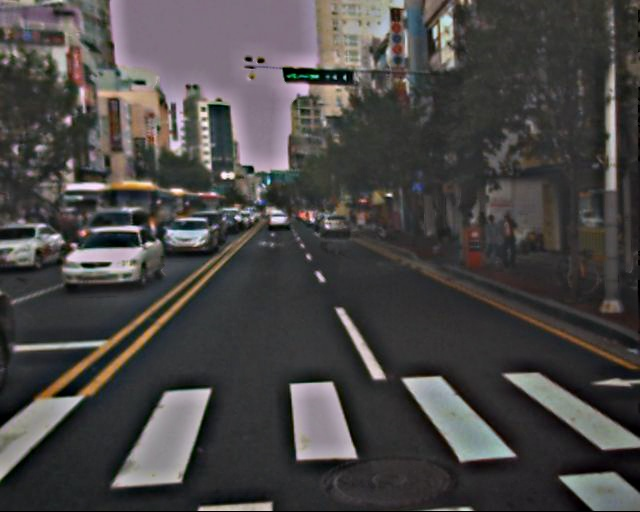person: (498, 213, 522, 271), (480, 216, 502, 269), (430, 209, 446, 248), (417, 207, 431, 241)
